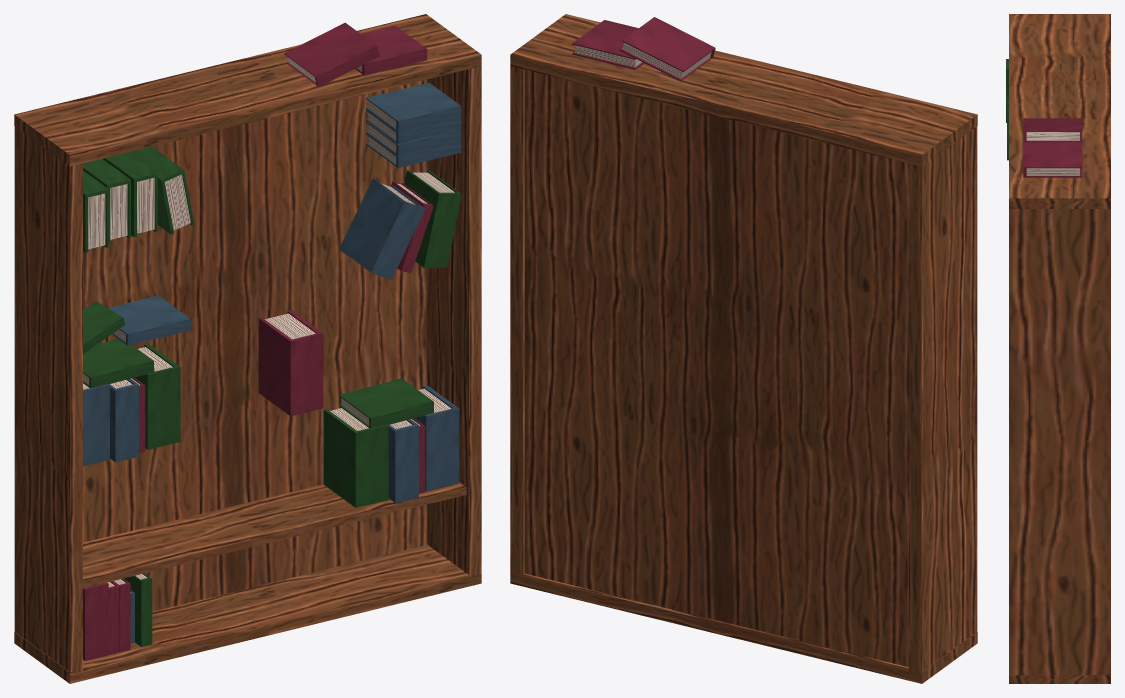
File: bookshelf filled 1.glb
3 renders of one model, left to right at view 1: azimuth 30°, elevation 25°; view 2: azimuth 150°, elevation 25°; view 3: azimuth 270°, elevation 25°, orthographic. The views are drawn at different scales.
Visible parts, largest first — view 1: Cube.010, Cube.008, Cube.007, Cube.009, Cube.006, Cube.011, Book thicc.008, Book thicc.012, Book standard.013, Book thin.029, Book thicc.010, Book thicc.011 (+22 smaller); view 2: Cube.010, Cube.008, Cube.007, Cube.009, Cube.006, Book thin.029, Book thin.028; view 3: Cube.009, Cube.007, Book thin.028, Book thin.029, Cube.006.
Boxes of the visible parts, box(x1,y1,x2,y2) form: Cube.010: box(83, 79, 427, 611); Cube.008: box(14, 126, 82, 673); Cube.007: box(14, 14, 481, 166); Cube.009: box(427, 66, 481, 576); Cube.006: box(14, 544, 481, 683); Cube.011: box(83, 482, 466, 588); Book thicc.008: box(258, 310, 323, 416); Book thicc.012: box(323, 408, 388, 507); Book standard.013: box(339, 178, 425, 279); Book thin.029: box(284, 22, 379, 86); Book thicc.010: box(134, 343, 180, 449); Book thicc.011: box(414, 385, 459, 491); Cube.010: box(525, 69, 908, 667); Cube.008: box(909, 126, 977, 673); Cube.007: box(510, 14, 977, 166); Cube.009: box(510, 66, 524, 576); Cube.006: box(510, 572, 977, 683); Book thin.029: box(620, 17, 715, 80); Book thin.028: box(572, 20, 644, 69); Cube.009: box(1009, 209, 1110, 675); Cube.007: box(1009, 14, 1110, 208); Book thin.028: box(1023, 142, 1082, 177); Book thin.029: box(1023, 118, 1082, 142); Cube.006: box(1009, 675, 1110, 683).
Size of the model in its own units: 8.57 by 11.04 by 2.05.
Materials: 3 (3 with a texture image).
